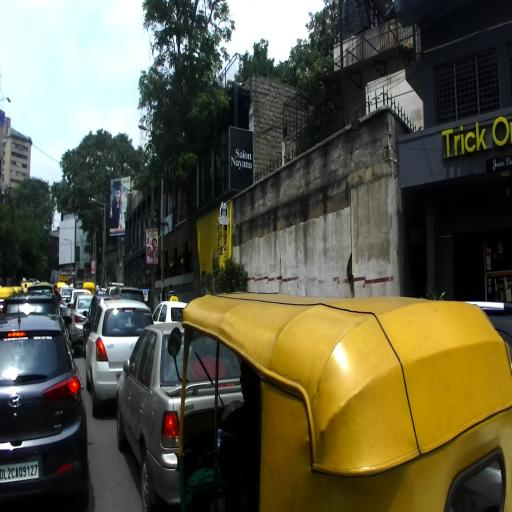street_light_0: (138, 124, 152, 132), (0, 96, 11, 103)
